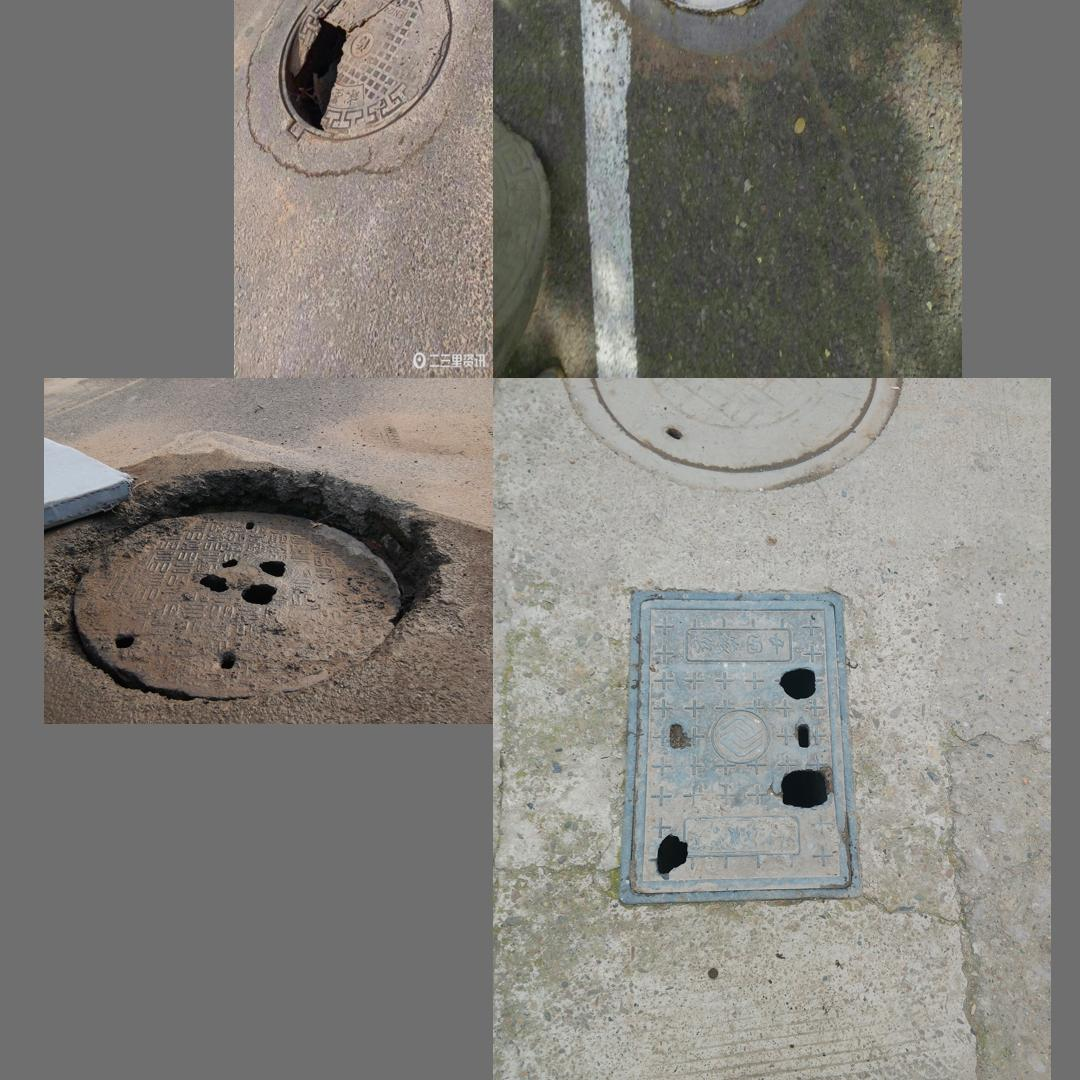broke: (615, 589, 860, 906), (72, 511, 402, 698), (247, 0, 472, 193), (564, 0, 877, 58)
